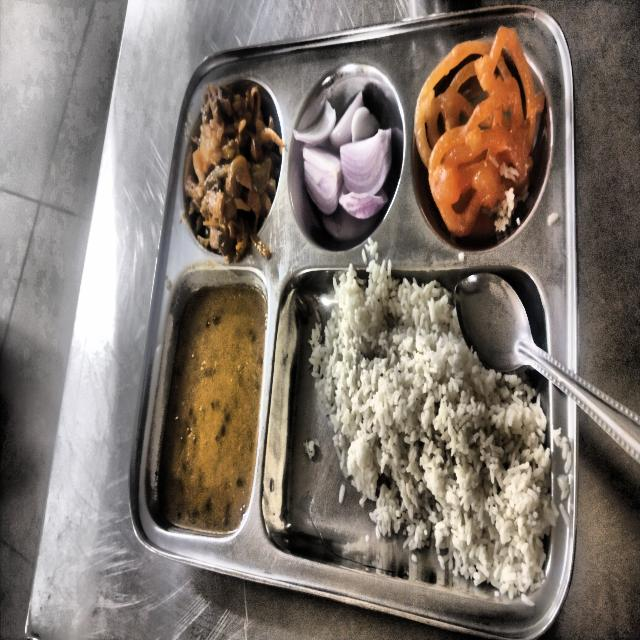Chilli-paneer: (123, 315, 197, 537)
Chutney: (395, 88, 479, 251)
Raita: (280, 329, 429, 596)
Salad-Chukundar: (246, 83, 359, 265)
gajar-aloo: (136, 81, 239, 269)
